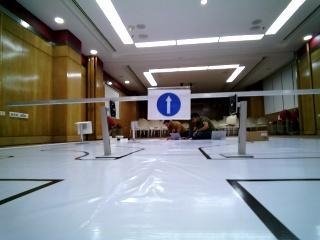straight: (146, 86, 192, 121)
